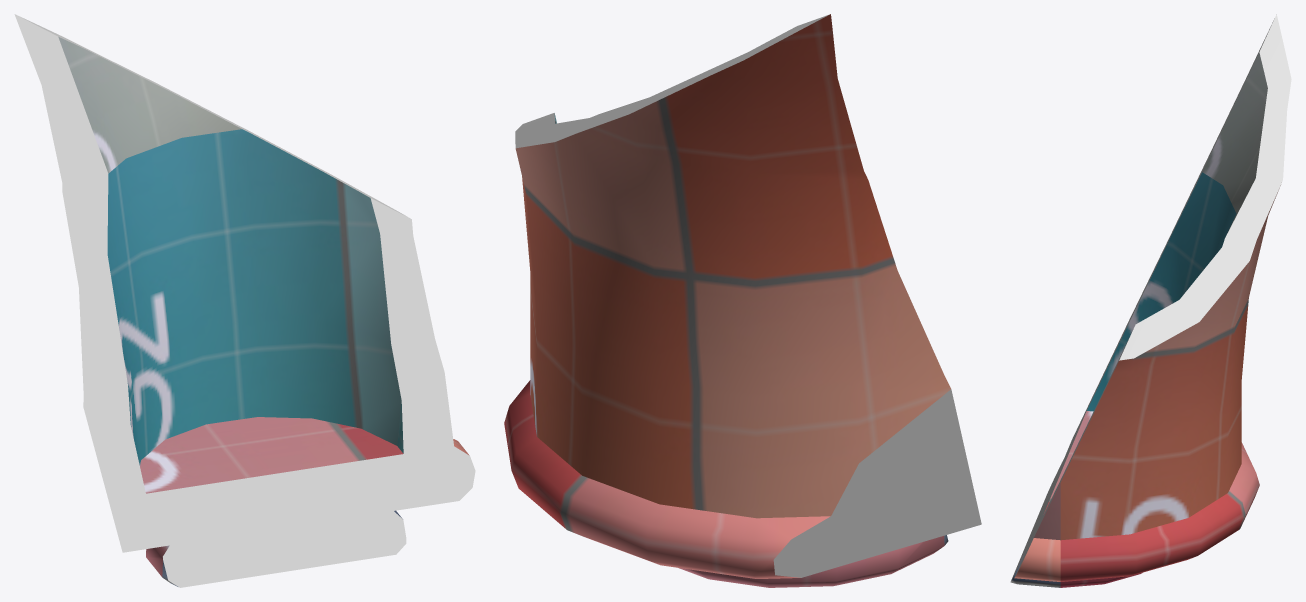
File: LargeVase_SHAT_cell_011.fbx
3 views of the same model, side by side, from view 1: azimuth 30°, elevation 25°; view 2: azimuth 150°, elevation 25°; view 3: azimuth 270°, elevation 25° (orthographic). The views are drawn at different scales.
Visible parts, largest first — view 1: LargeVase_SHAT_cell_011; view 2: LargeVase_SHAT_cell_011; view 3: LargeVase_SHAT_cell_011.
Part boxes in pixels (left/top/right/bottom): LargeVase_SHAT_cell_011: left=14, top=14, right=475, bottom=587; LargeVase_SHAT_cell_011: left=504, top=14, right=981, bottom=587; LargeVase_SHAT_cell_011: left=1010, top=14, right=1291, bottom=587.
Bounding box in the file's own units: 0.7882 × 1.09 × 0.6047.
2 materials, 1 textured.
